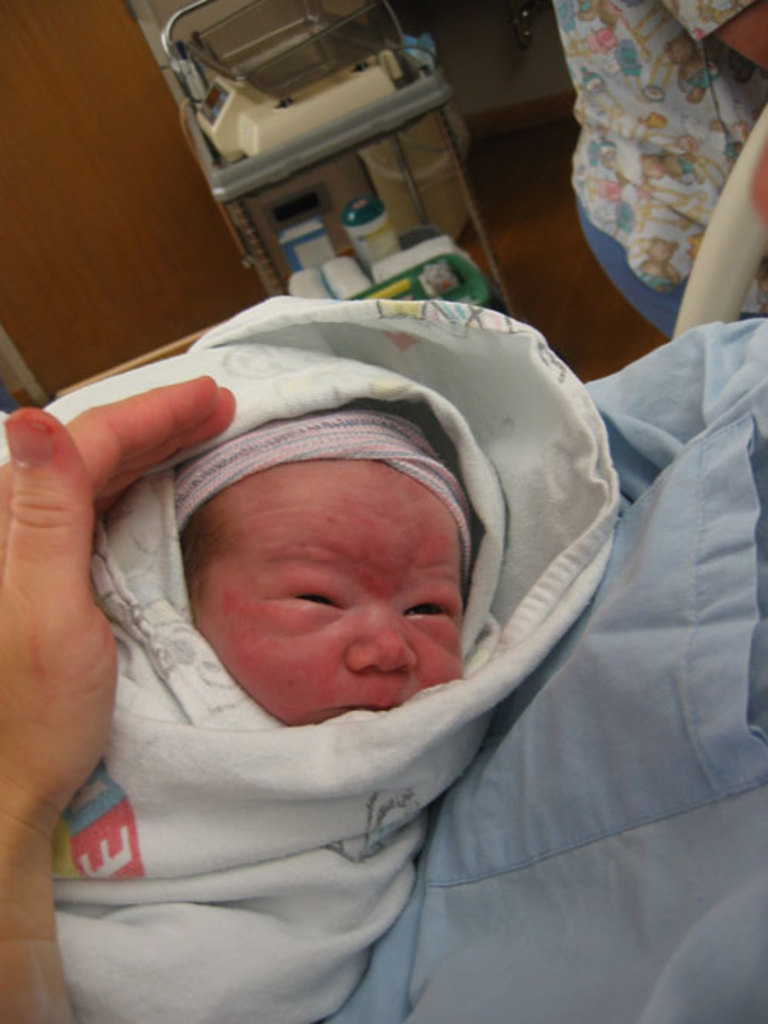Human_hand: (0, 310, 187, 817)
